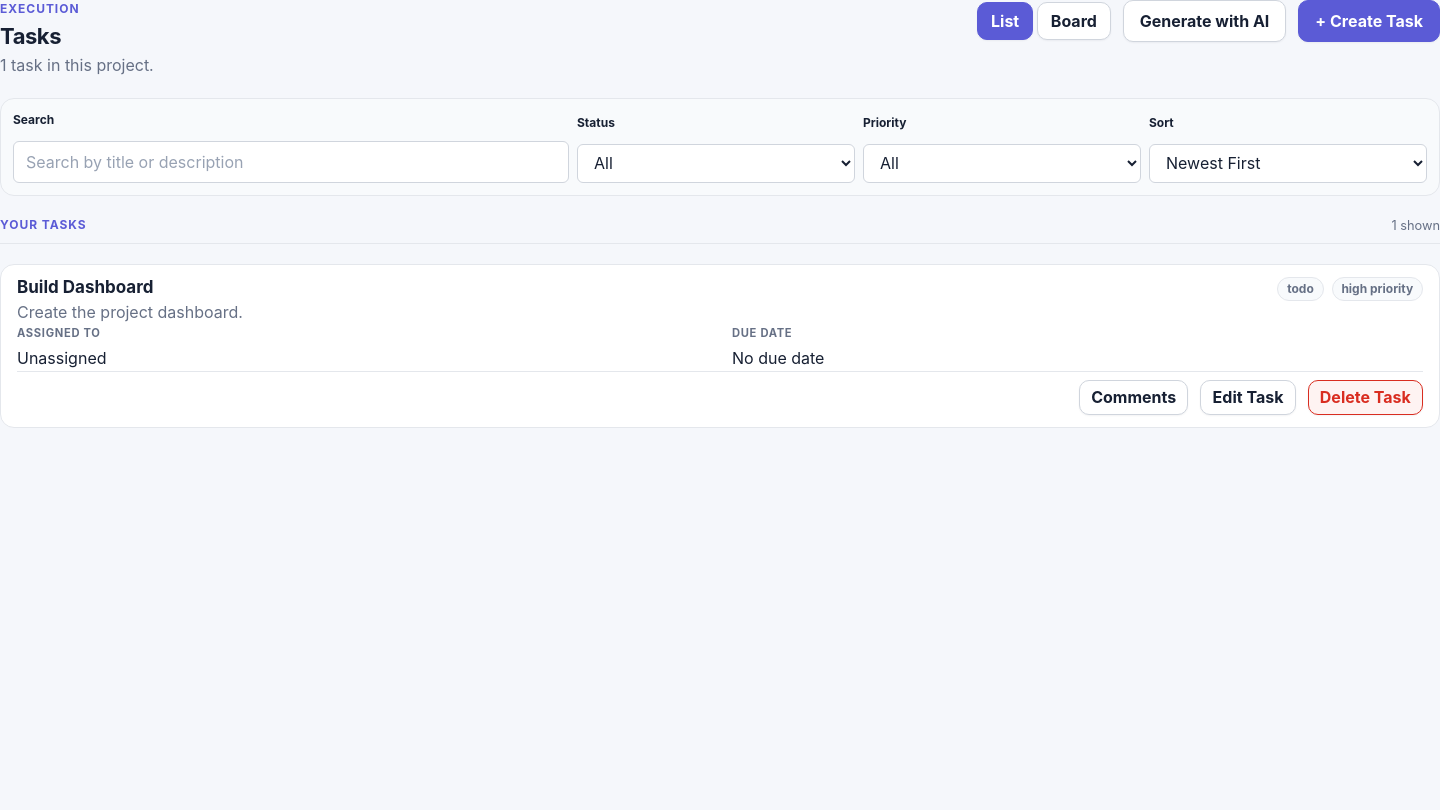
Test: task comments read and create UI › shows the empty state and closes the shared panel
What coordinates should you click on to do the following:
click the button with aria-label "View comments for Build Dashboard"
I would click on:
 (1134, 397)
Its box is [1079,380,1188,414].
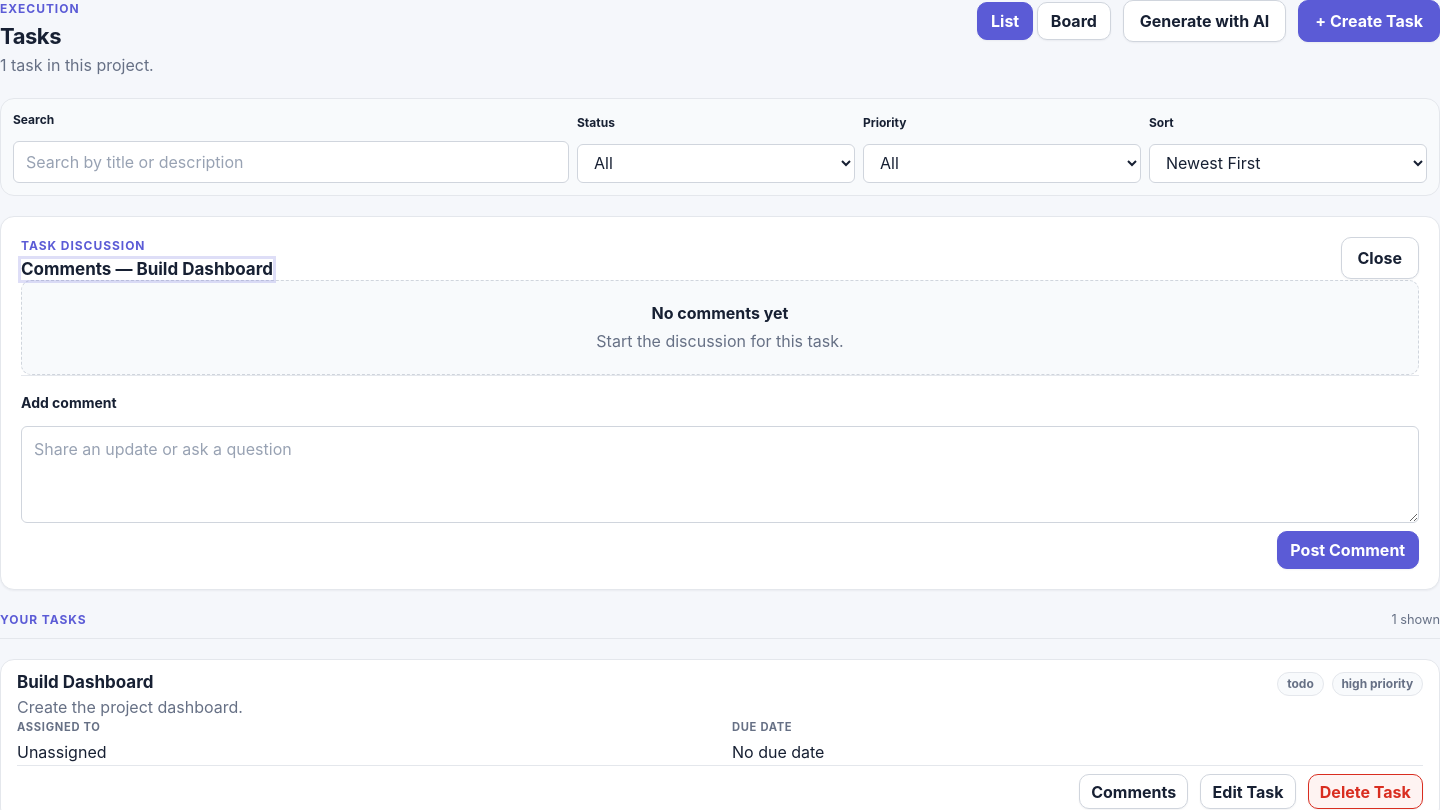
Expected: the text "No comments yet" is shown, [652,302,788,322]
What coordinates should you click on to do the following:
click the button with aria-label "Close comments for Build Dashboard"
I would click on:
 (1380, 258)
Its box is [1340,236,1419,278].
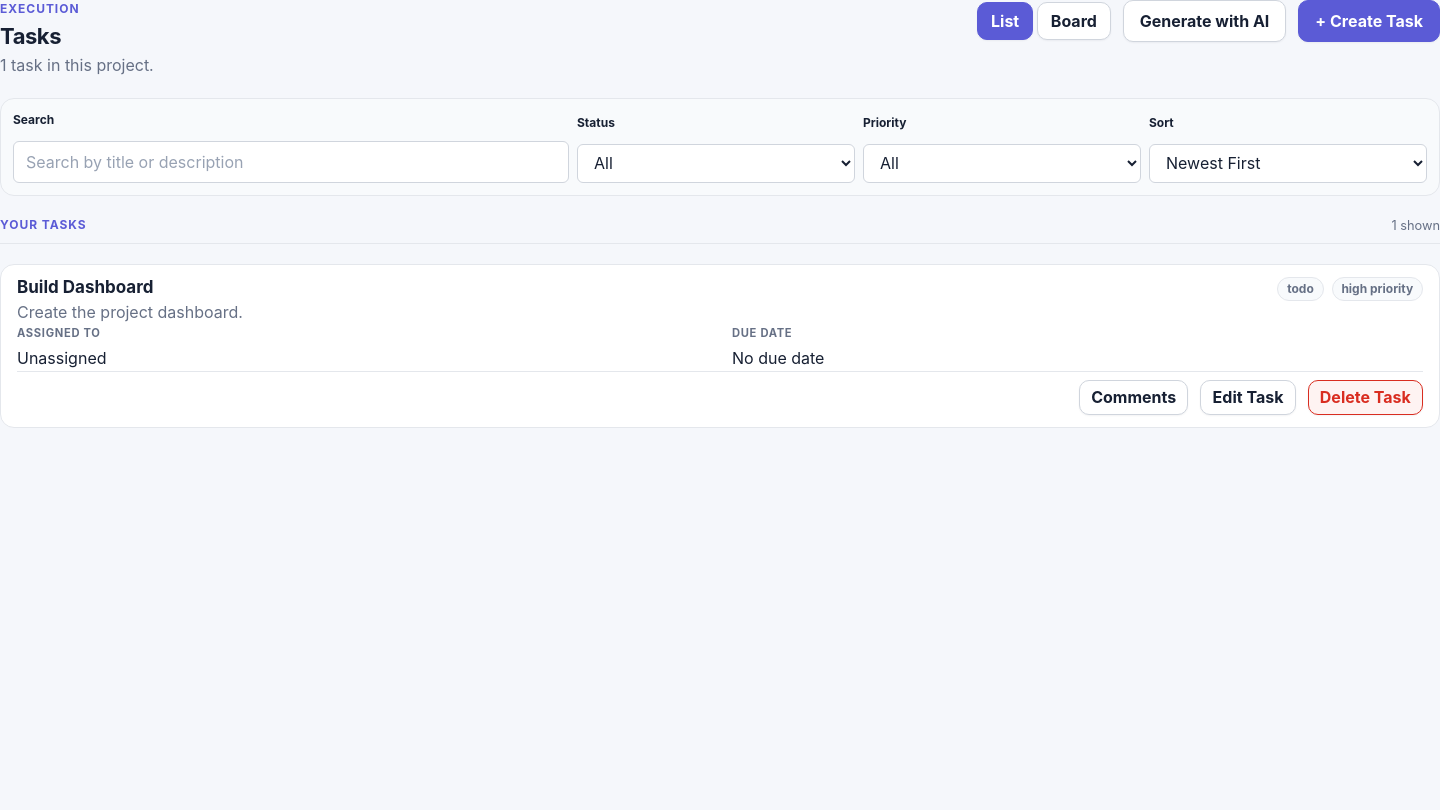
Expected: the heading "Comments — Build Dashboard" is gone
